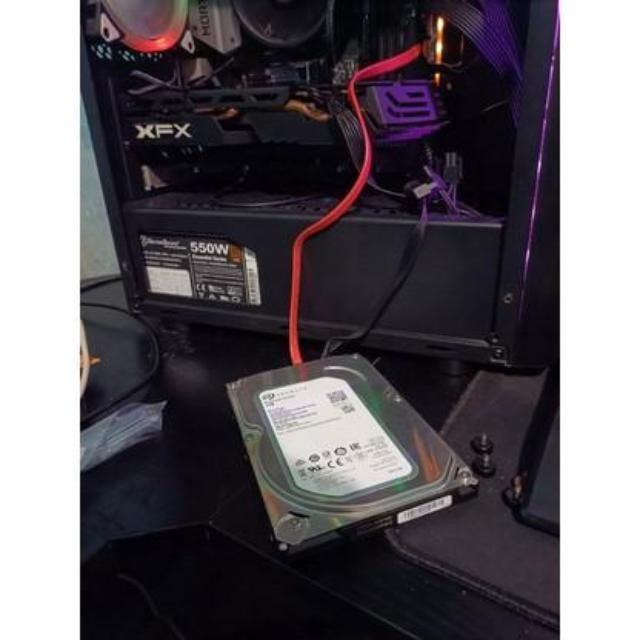DISK: (214, 338, 480, 560)
GPU: (114, 72, 452, 164)
PSU: (105, 207, 280, 316)
